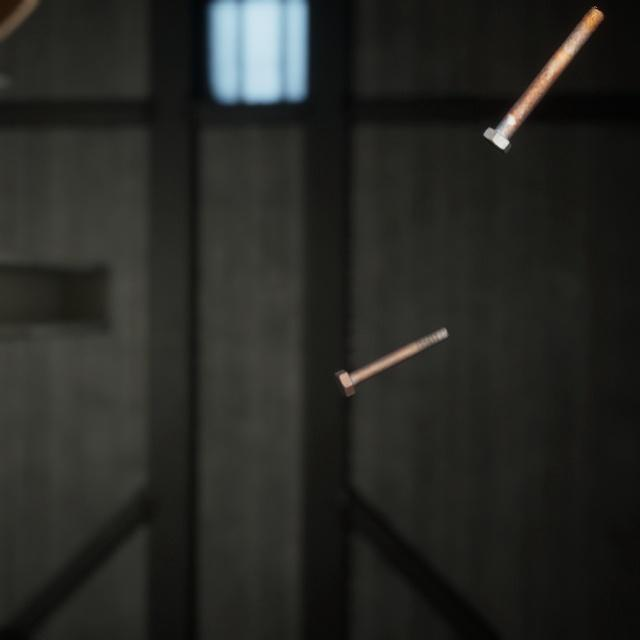bolt: (478, 0, 608, 147), (329, 305, 453, 383)
